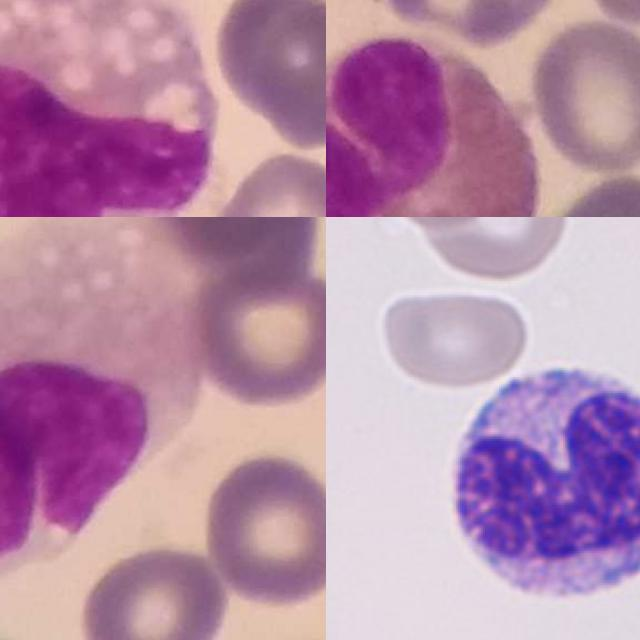Eosinophil: (326, 43, 538, 217)
Lymphocyte: (431, 354, 640, 617)
Monocyte: (0, 217, 213, 601), (0, 0, 217, 217)
RBC: (376, 285, 533, 391), (394, 217, 572, 284)
